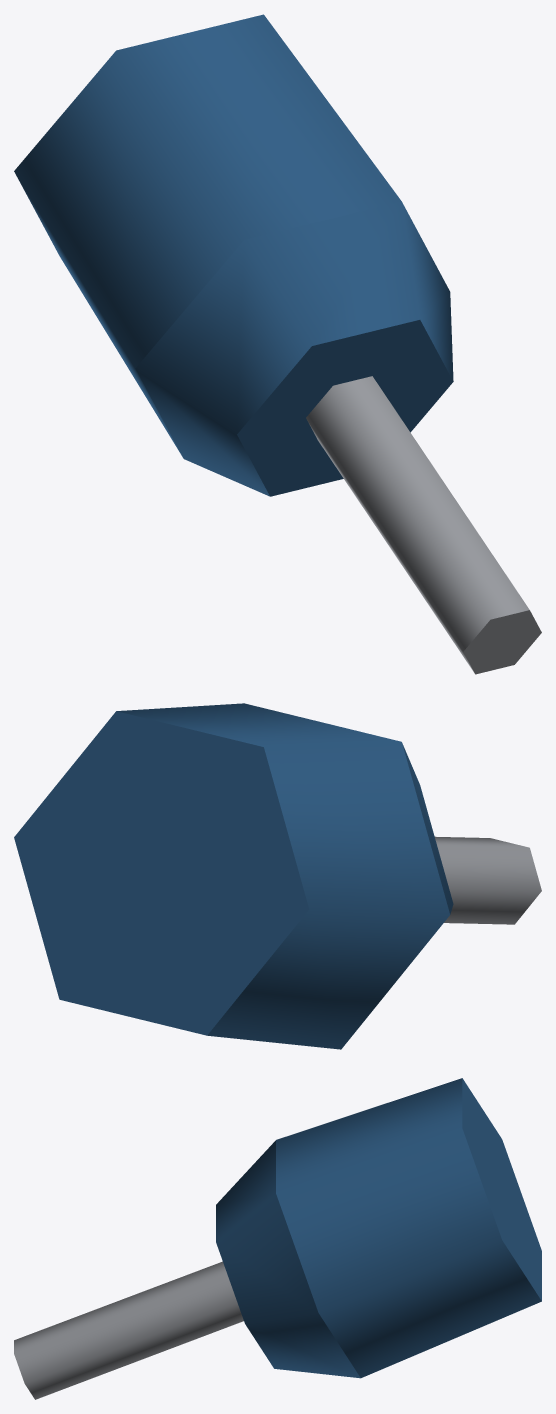
File: rm2_tool_head.obj
3 renders of one model, top to bottom at view 1: azimuth 30°, elevation 25°; view 2: azimuth 150°, elevation 25°; view 3: azimuth 270°, elevation 25°, orthographic. The views are drawn at different scales.
Visible parts, largest first — view 1: rm2_tool_head; view 2: rm2_tool_head; view 3: rm2_tool_head.
Boxes of the visible parts, x1,y1,x2,y2 form: rm2_tool_head: (14, 14, 541, 674); rm2_tool_head: (14, 703, 541, 1049); rm2_tool_head: (14, 1078, 541, 1399).
Bounding box in the file's own units: 0.064 × 0.0804 × 0.1327.
